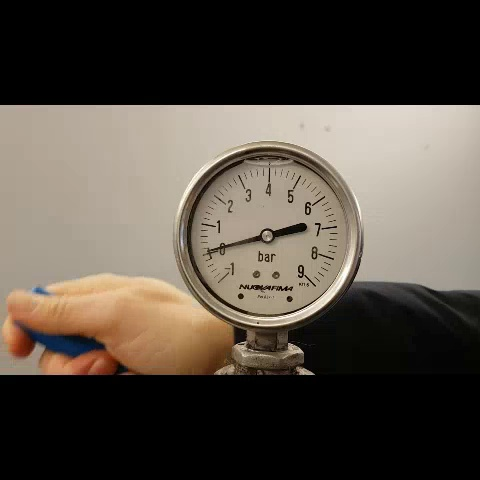Round_Meter: (186, 153, 352, 319)
